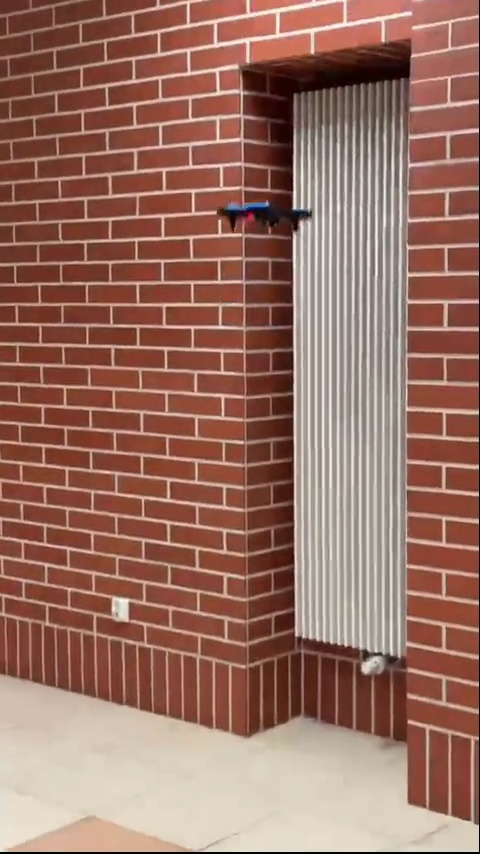drone: (217, 191, 314, 237)
